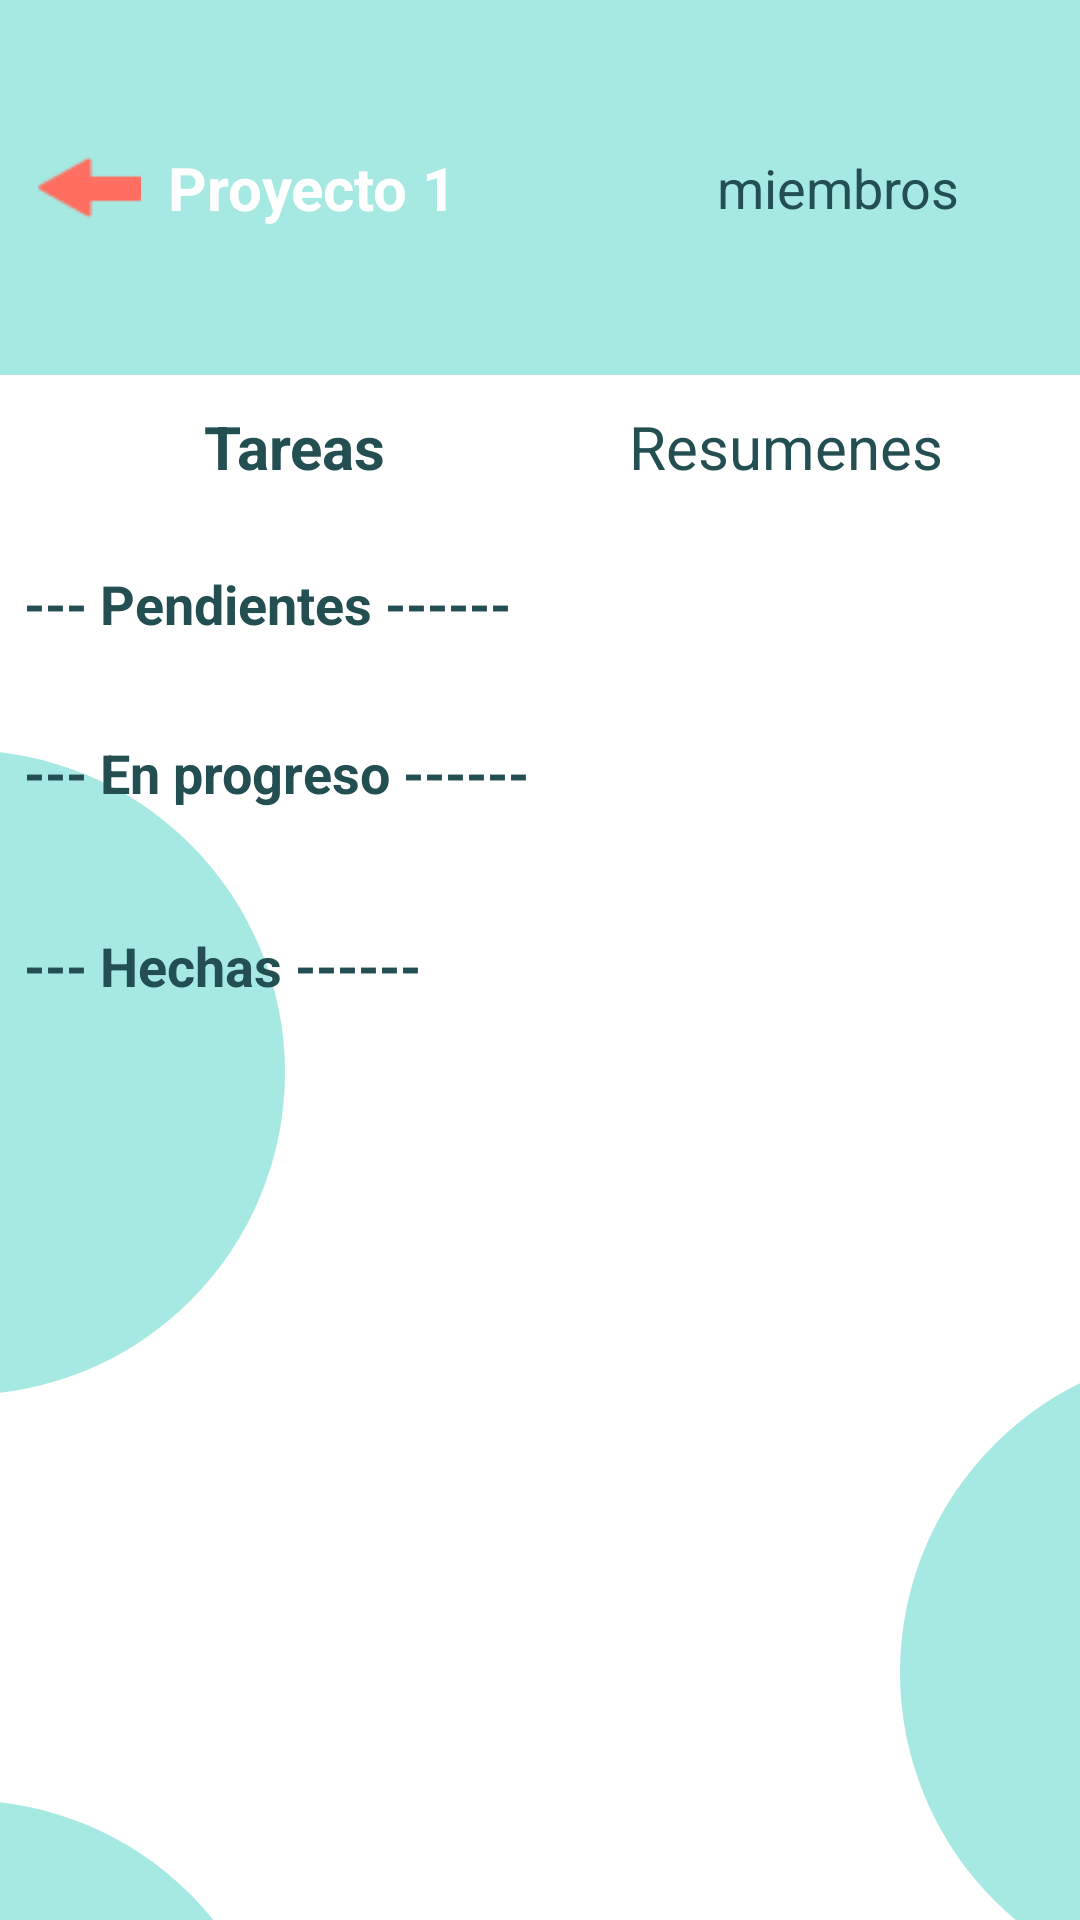

Where to tap for icons on this 1080x1920 app screen, as (x,y):
flecha: (89,187)
